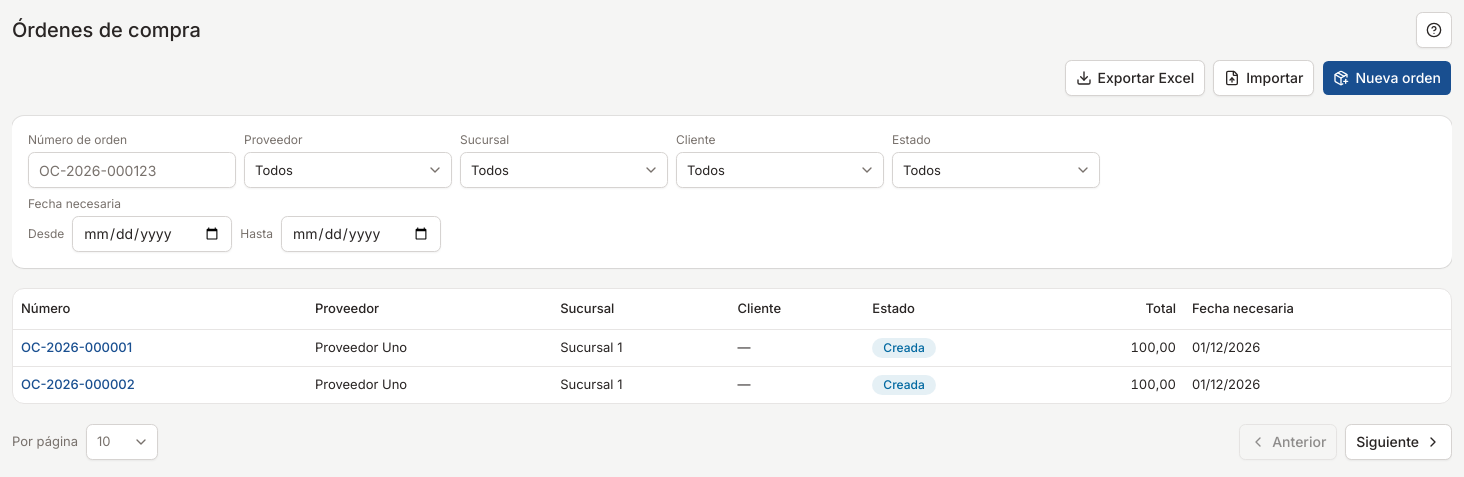
Test: paginación de la lista de órdenes › navega a la siguiente página y de regreso con Anterior/Siguiente
Check: the link "OC-2026-000001" is shown, box x1=21 y1=339 x2=132 y2=355
Check: the button "Anterior" is disabled, box x1=1239 y1=424 x2=1337 y2=460
Click the button "Siguiente" at (1399, 442), box x1=1345 y1=424 x2=1452 y2=460
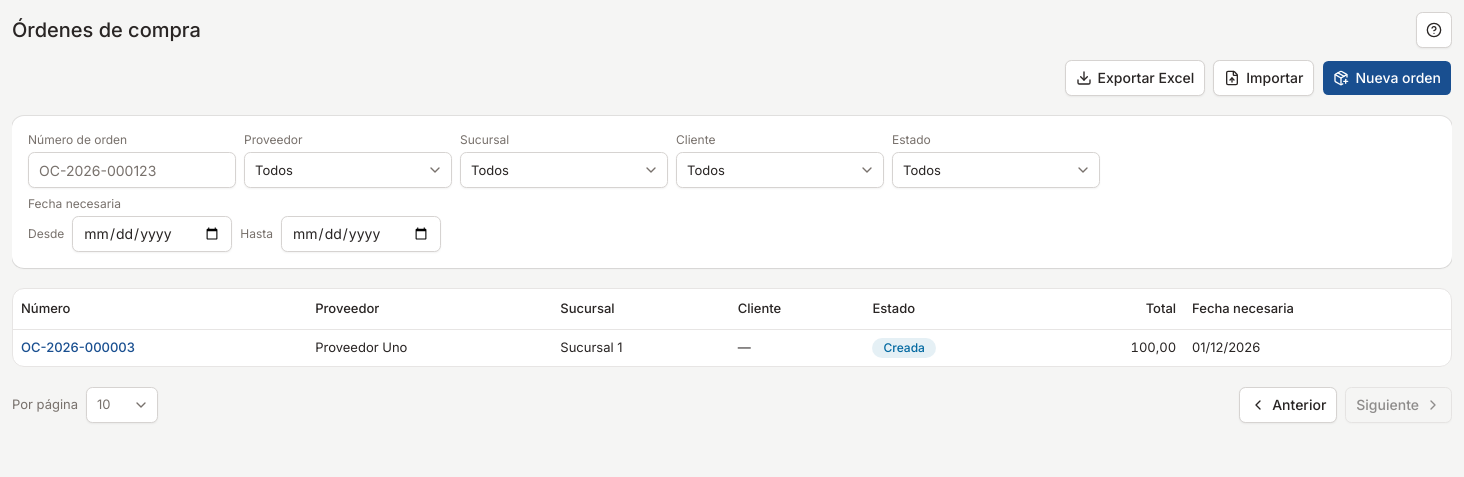
Check: the link "OC-2026-000003" is shown, box x1=21 y1=339 x2=135 y2=355
Check: the link "OC-2026-000001" is gone
Check: the button "Siguiente" is disabled, box x1=1345 y1=386 x2=1452 y2=422
Click the button "Anterior" at (1288, 404), box x1=1239 y1=386 x2=1337 y2=422
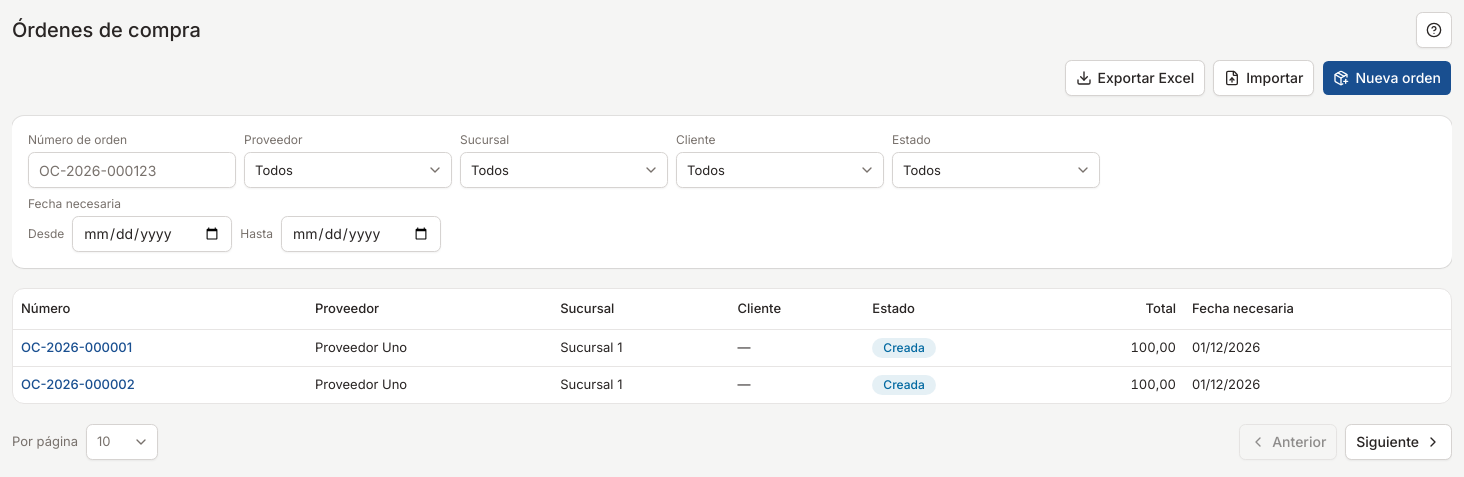
Check: the link "OC-2026-000001" is shown, box x1=21 y1=339 x2=132 y2=355
Check: the button "Siguiente" is enabled, box x1=1345 y1=424 x2=1452 y2=460
Check: the button "Anterior" is disabled, box x1=1239 y1=424 x2=1337 y2=460
